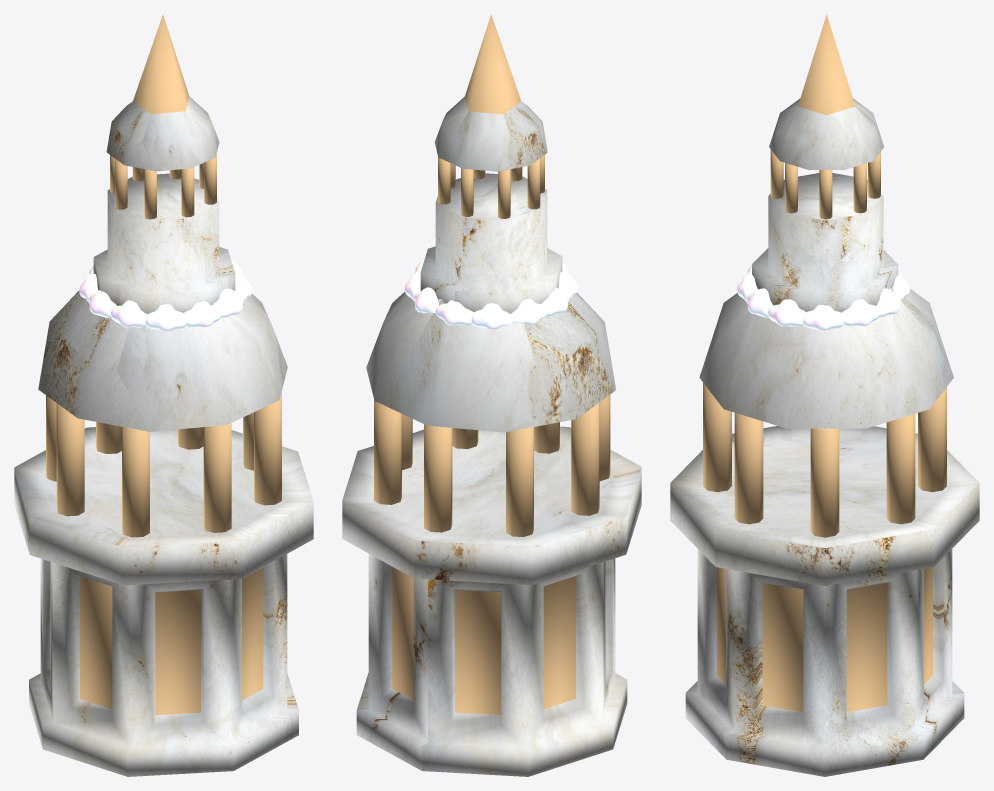
The model's file is track2Building4.glb.
3 views of the same model, side by side, from view 1: azimuth 30°, elevation 25°; view 2: azimuth 150°, elevation 25°; view 3: azimuth 270°, elevation 25° (orthographic).
Parts seen in each view (by area): view 1: track2building4; view 2: track2building4; view 3: track2building4.
Part boxes in pixels (box(x1,y1,x2,y2)): track2building4: box(14, 14, 313, 776); track2building4: box(342, 14, 641, 776); track2building4: box(670, 14, 979, 776).
Bounding box in the file's own units: 2.92 × 7.34 × 2.92.
Materials: 3 (2 with a texture image).
